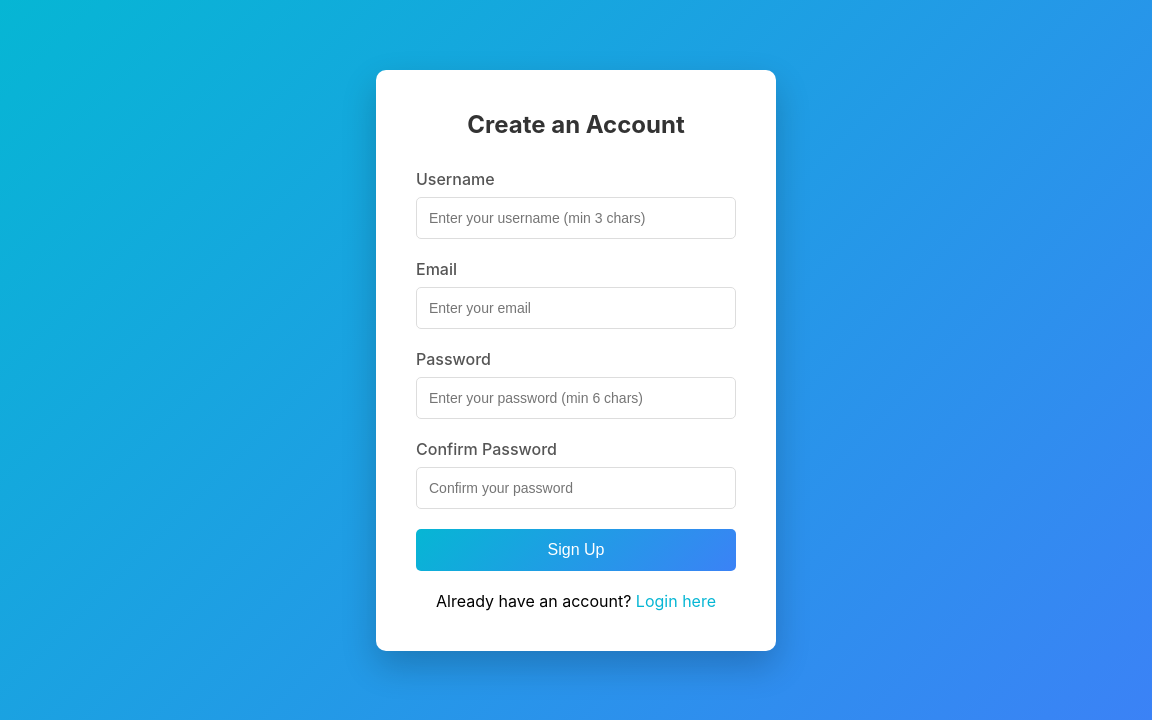
Scenario: Signup Component › shows error for short password
Type "testuser" into the field labelled "Username" at (576,218), box [416,196,736,238]
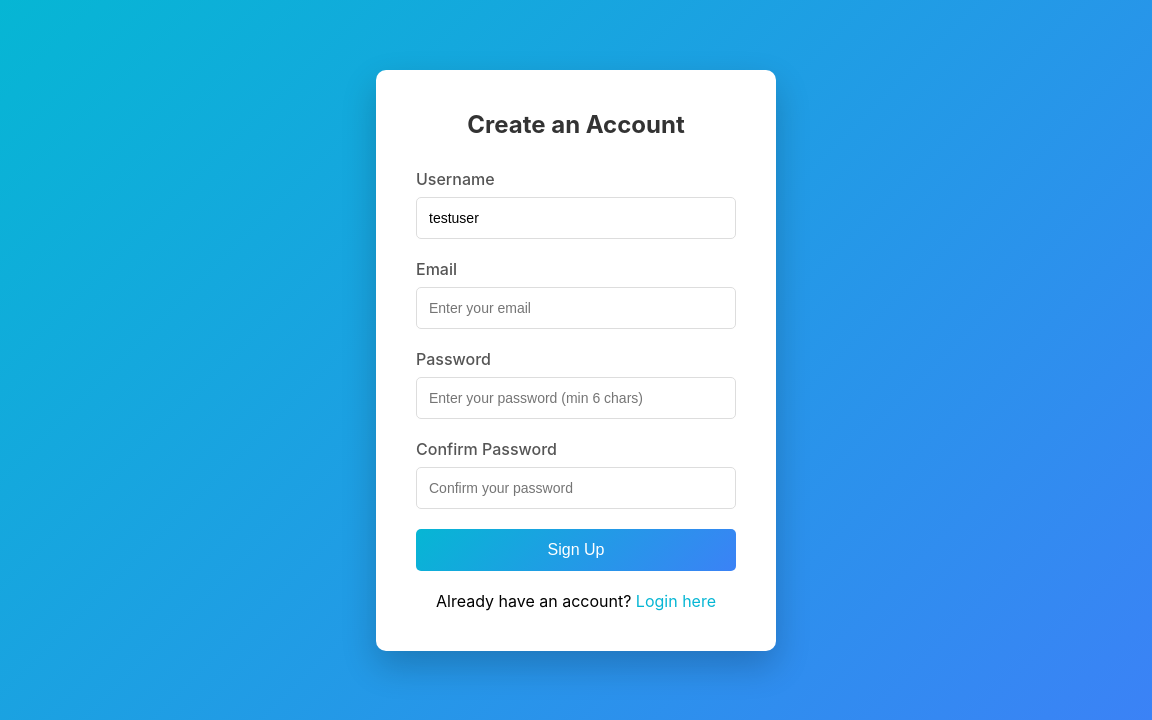
Type "test@example.com" into the field labelled "Email" at (576,308), box [416,286,736,328]
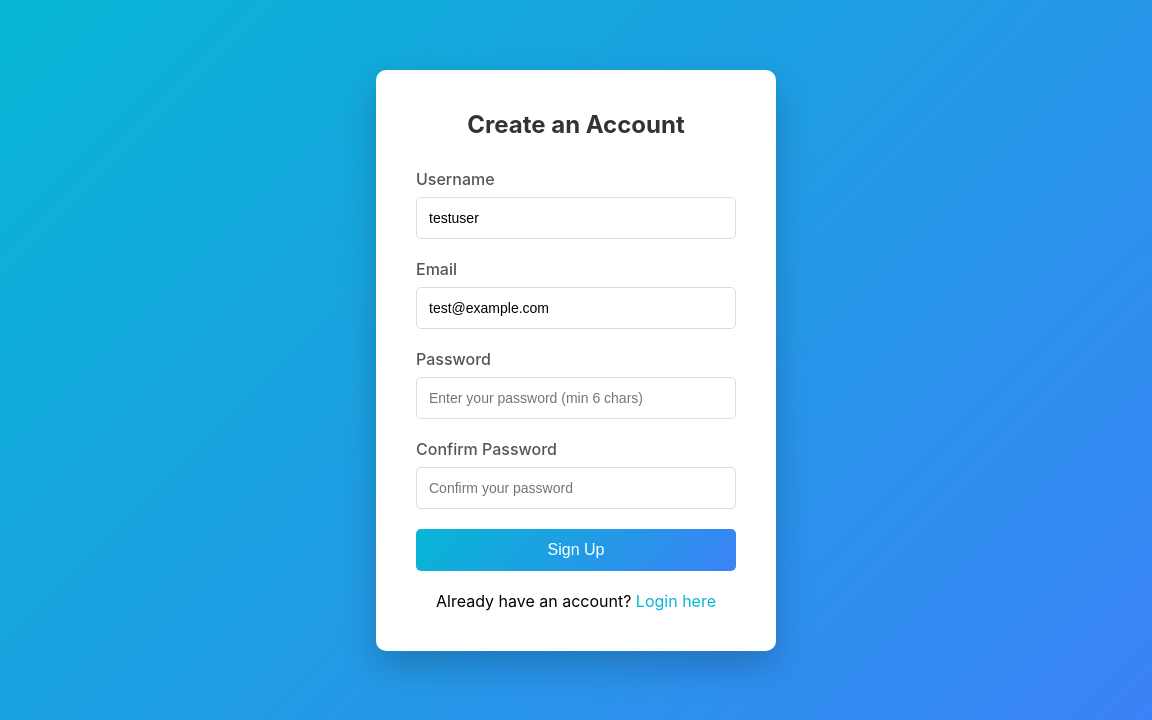
Type "12345" into the password field labelled "Password" at (576,398), box [416,376,736,418]
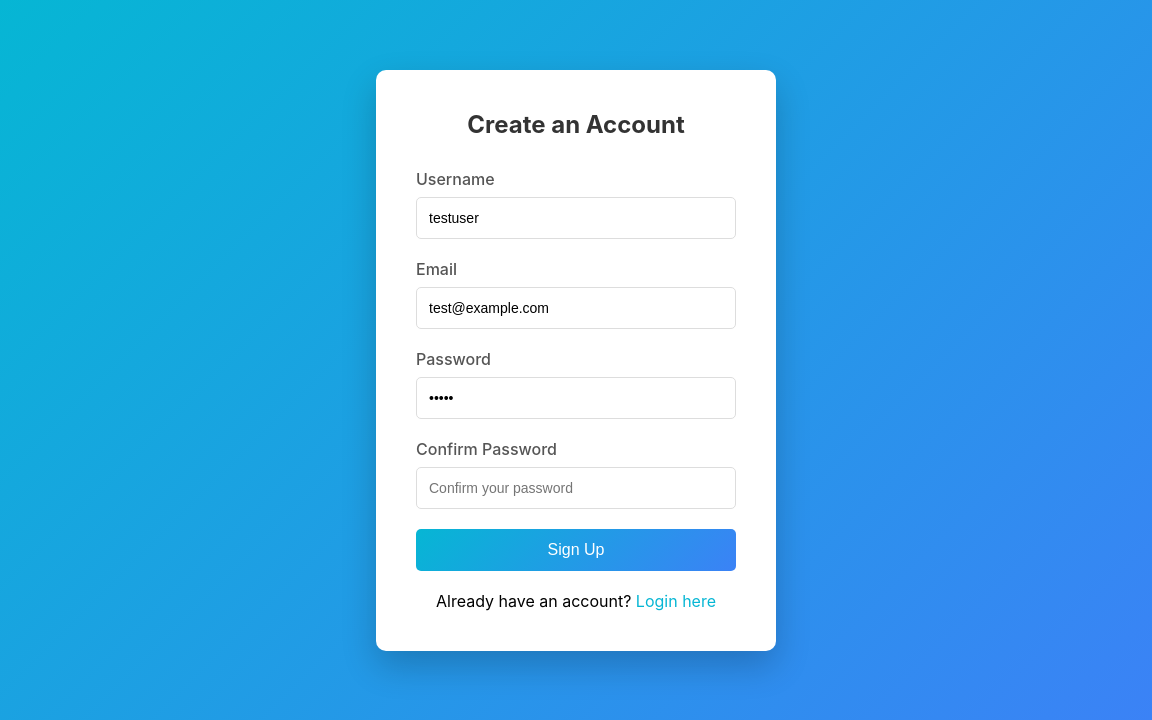
Type "12345" into the password field labelled "Confirm Password" at (576,488), box [416,466,736,508]
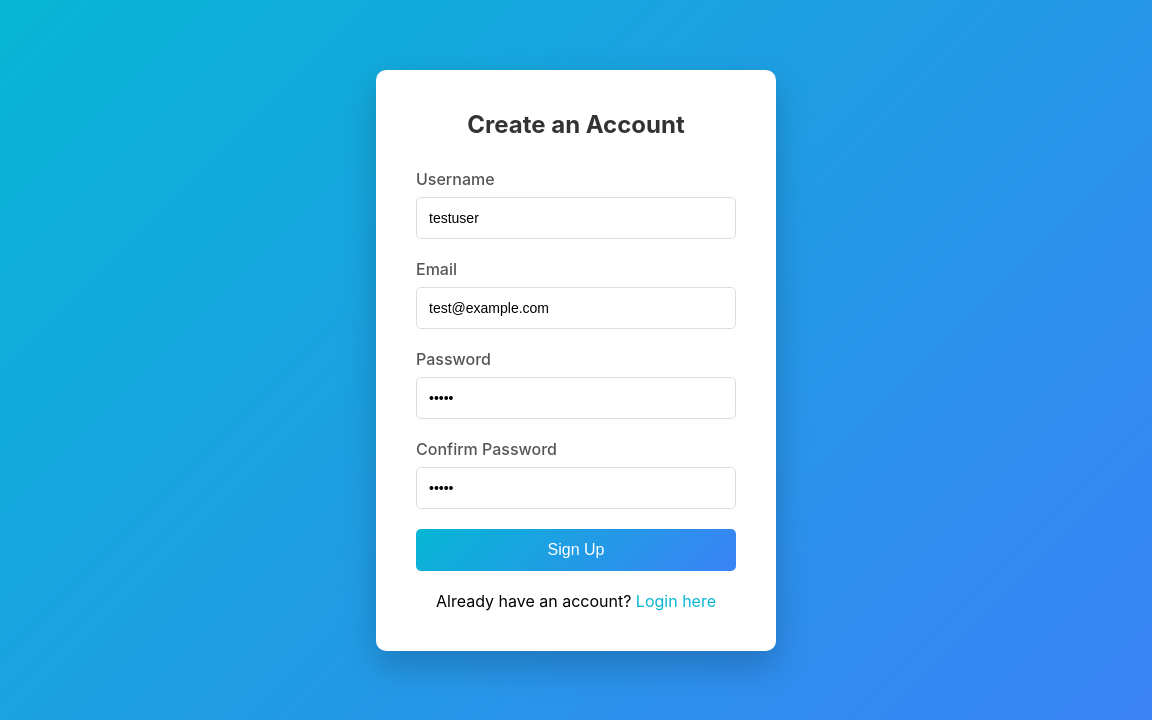
Click the button "Sign Up" at (576,550), box [416,528,736,570]
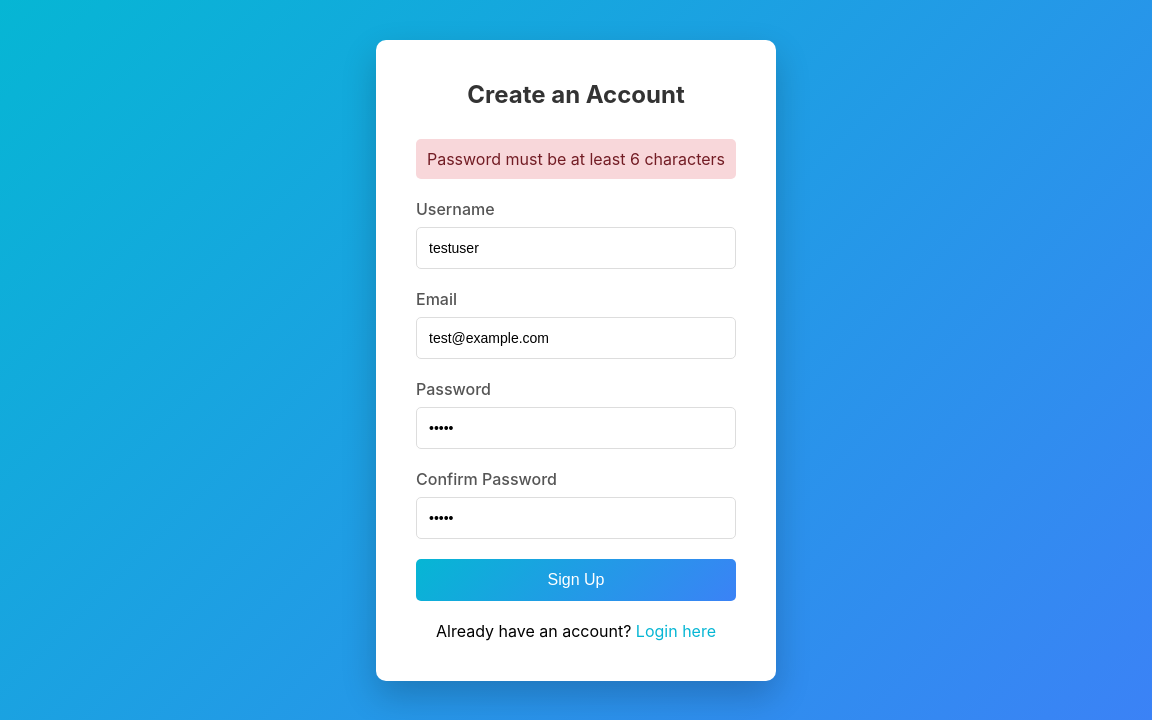
Expected: the text "Password must be at least 6 characters" is shown, [416,138,736,178]
